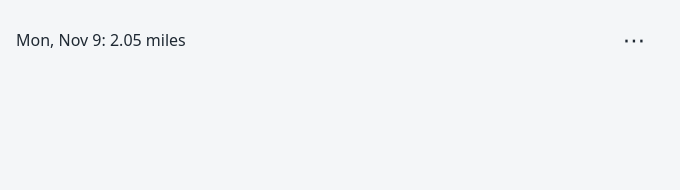
it: RunList › shows the error when deleting fails
The image size is (680, 190).
Click the button named "Actions for Mon, Nov 9 run" at point(634, 40), box [612,18,656,62]
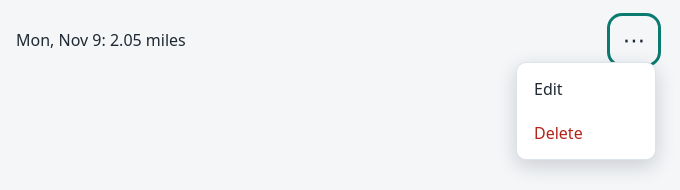
Click the menu item with aria-label "Delete Mon, Nov 9 run" at point(586, 133), box [521,111,651,155]
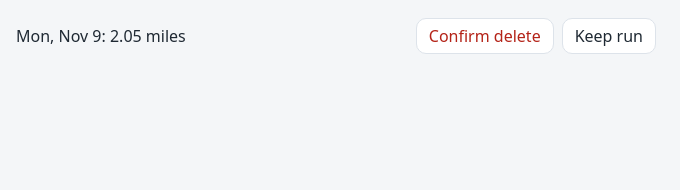
Click the button "Confirm delete" at point(485, 36), box [416,18,554,54]
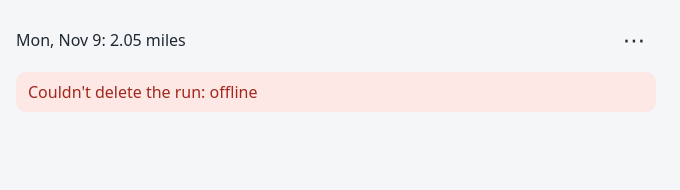
Result: the text "Couldn't delete the run: offline" is shown at [16,72,656,112]
